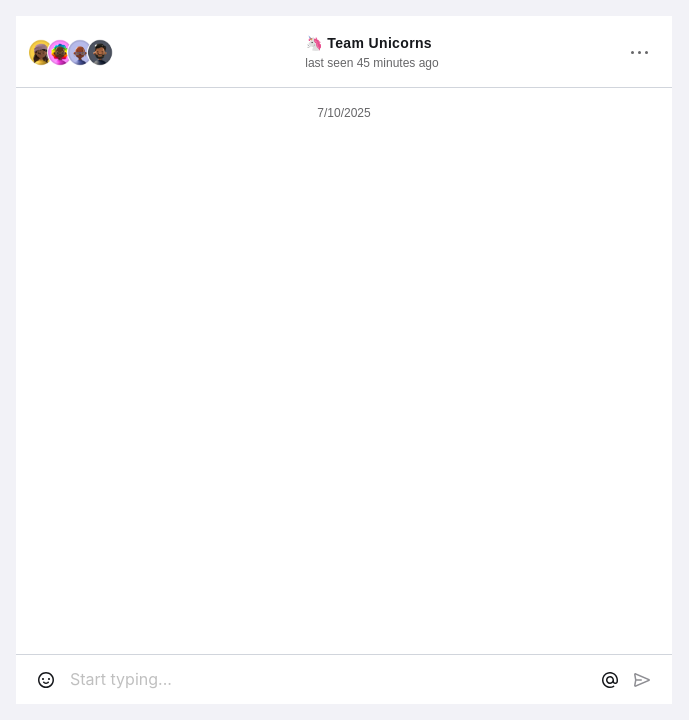
Chat Integration Tests › should allow a user to send a message and see it on the screen
Type "Hello, world!" into the text box with test id "message-input" at coordinates (328, 680), box 70,667 -> 586,692
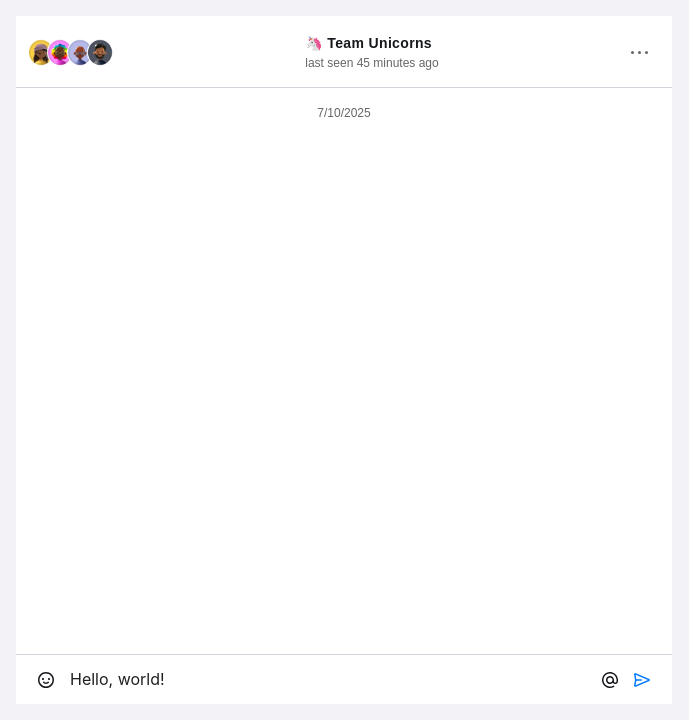
Click the button named "send message" at coordinates (642, 682), box 634,672 -> 650,692
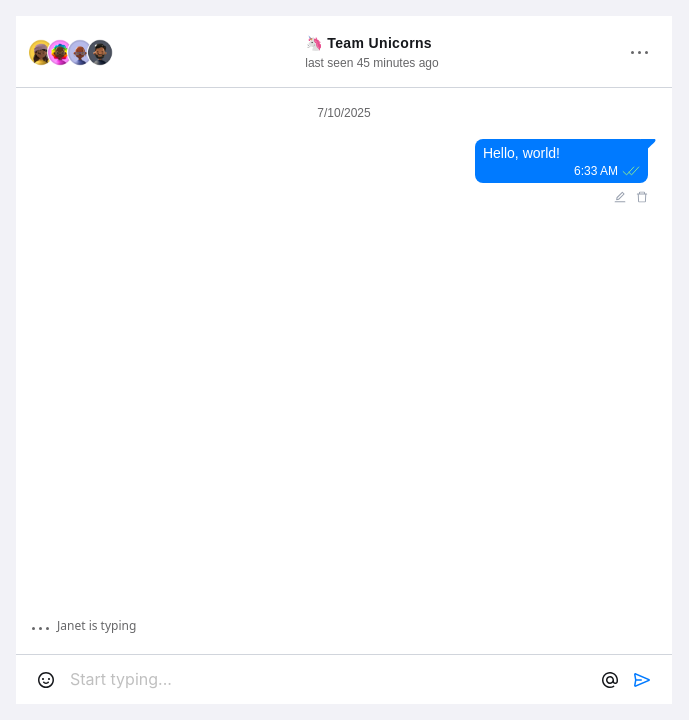
Result: the text "Hello, world!" is shown at 483,143 -> 560,163
